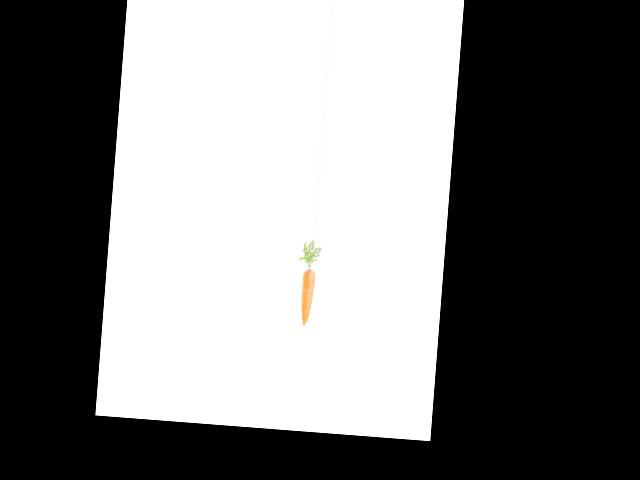carrot: (297, 267, 317, 328)
